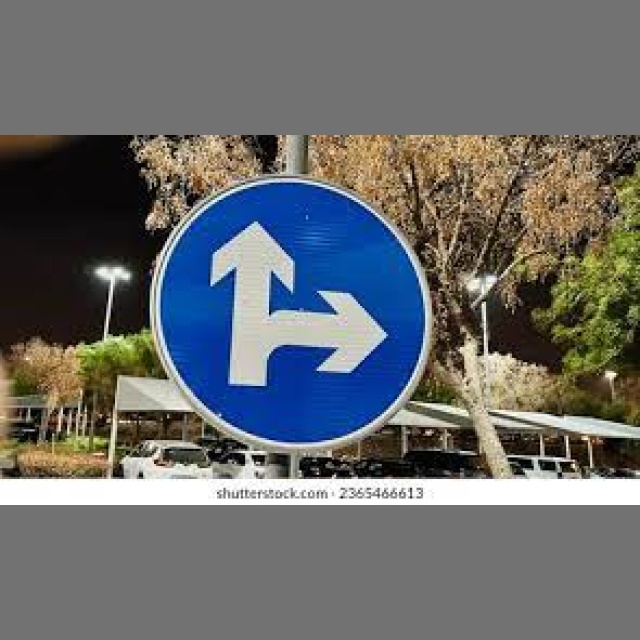Compulsory_Ahead_or_Turn_Right: (153, 176, 433, 448)
